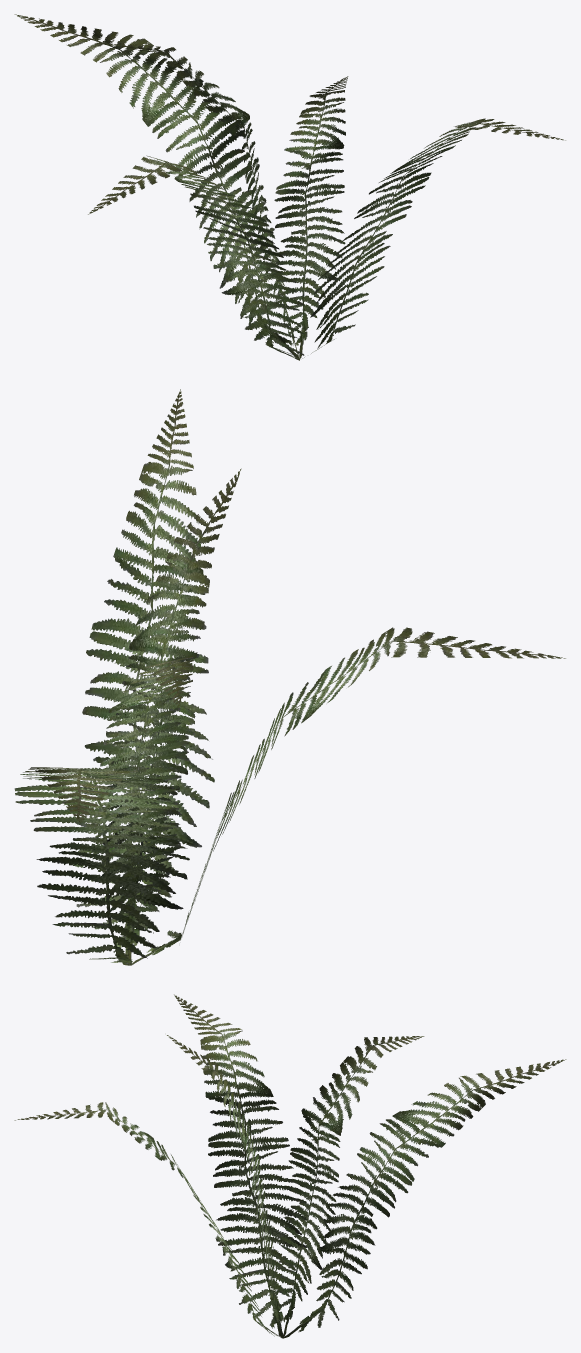
The model's file is GS_NATURE_PLANT_06.glb.
3 renders of one model, top to bottom at view 1: azimuth 30°, elevation 25°; view 2: azimuth 150°, elevation 25°; view 3: azimuth 270°, elevation 25°, orthographic. The views are drawn at different scales.
Visible parts, largest first — view 1: Mesh; view 2: Mesh; view 3: Mesh.
Boxes of the visible parts, x1,y1,x2,y2 form: Mesh: (14,14,565,360); Mesh: (14,389,565,965); Mesh: (14,994,566,1338).
Bounding box in the file's own units: 3.2 × 2.67 × 4.5.
1 material, 1 textured.
